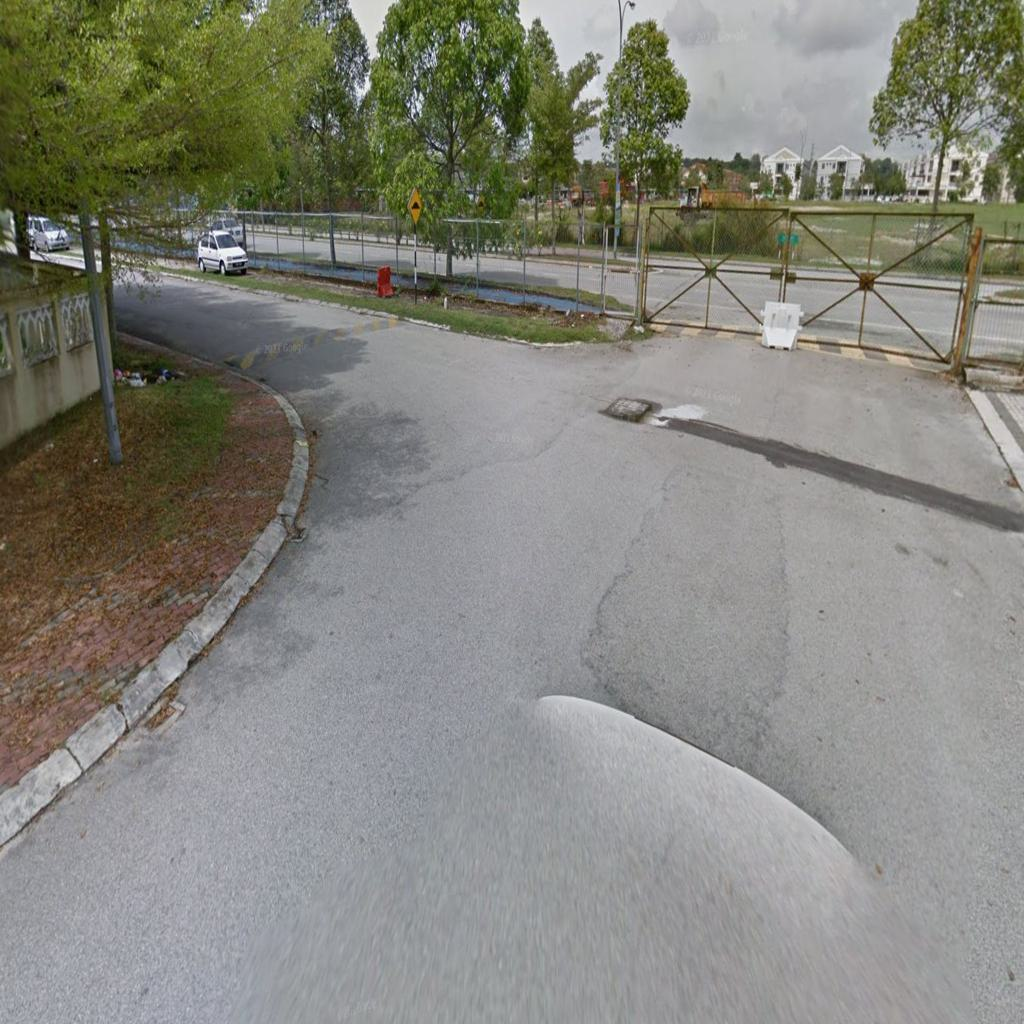Junction: (186, 286, 559, 541)
